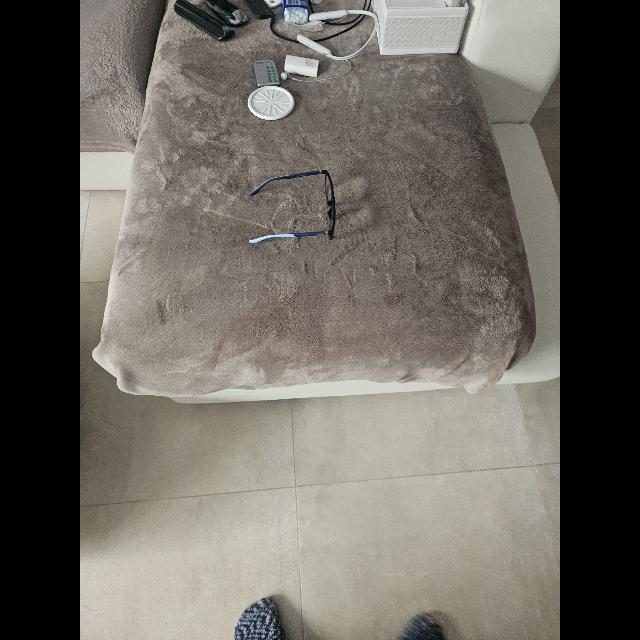glasses: (248, 170, 336, 244)
